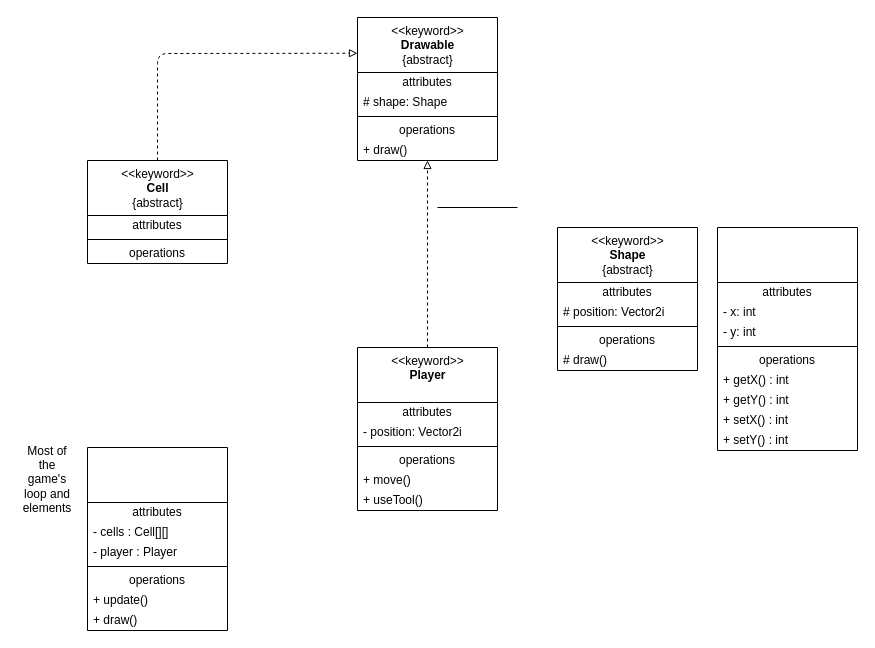
This 875x648 diagram has some shape labels left out. The shapes that lost their labels are listed below. From the top down, each one's box as (x1, y1, x2, y2) in pixels, then its label:
(716, 226, 858, 450): <<keyword>> Vector2i
(86, 446, 228, 630): <<keyword>> World
